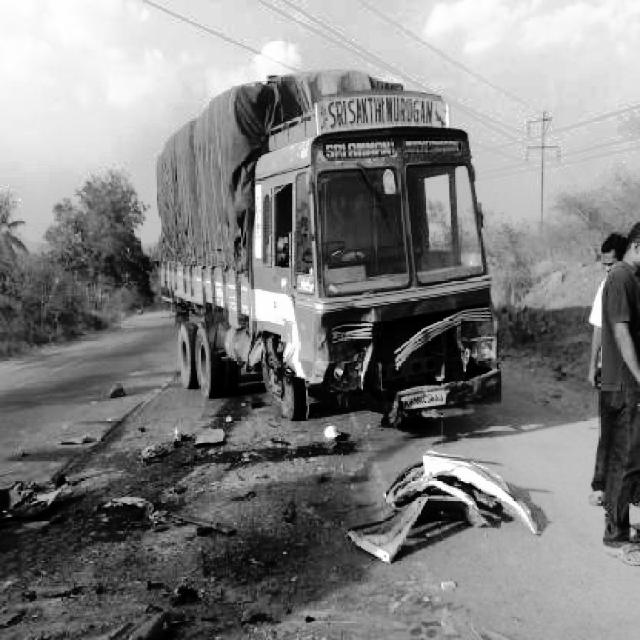HCV: (142, 89, 494, 440)
